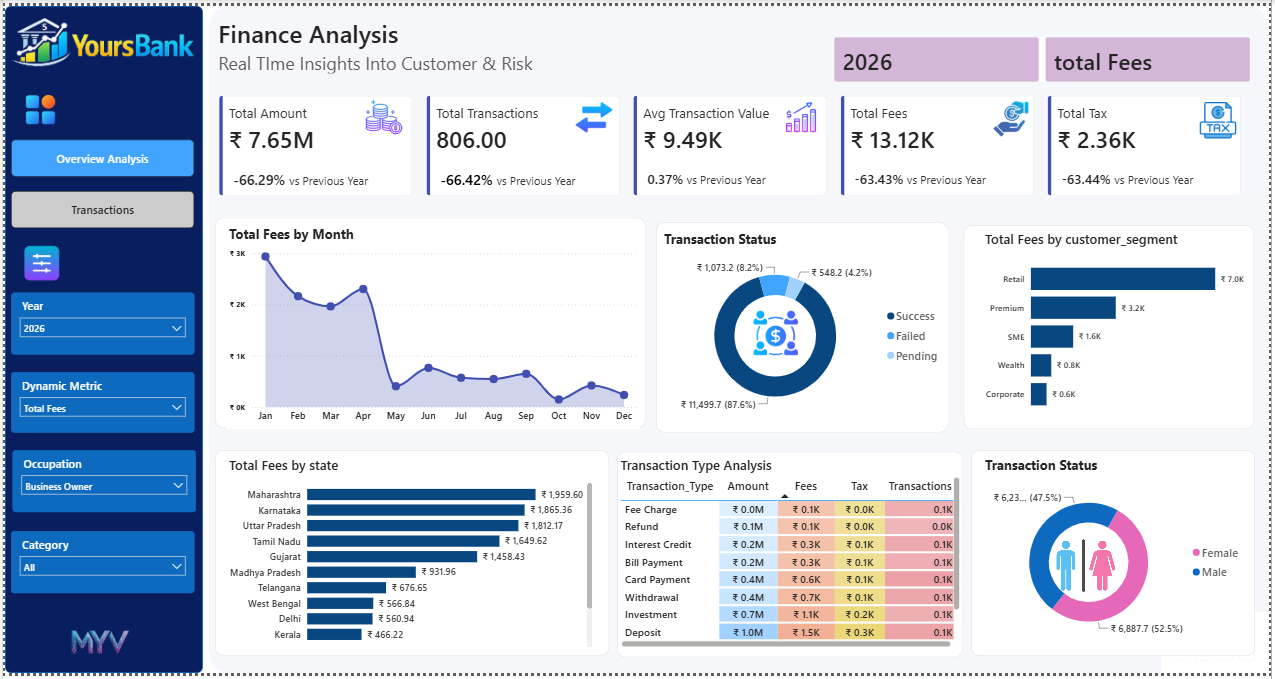

Layout of this report page (visuals, bound fields, positions):
{"tool":"powerbi","page":{"name":"Overview Analysis ","canvas":[1800,950],"ordinal":0},"visuals":[{"type":"shape","box":[0,0,281.8,950],"z":0},{"type":"shape","box":[290.9,0,1509.1,950],"z":1000},{"type":"image","box":[0,0,281.8,113.6],"z":2000},{"type":"cardVisual","fields":{"Data":["finance_transactions.Dashboard Title"]},"box":[279.5,0,634.1,113.6],"z":3000},{"type":"cardVisual","fields":{"Data":["finance_transactions.Total Amount","finance_transactions.Total Transactions","finance_transactions.Avg Transaction Value","finance_transactions.Total Fees","finance_transactions.Total Tax"]},"box":[300,122.7,1470.5,154.5],"z":4000},{"type":"slicer","fields":{"Values":["Calendar Table.Year"]},"box":[9.1,409.1,261.4,88.6],"z":5000},{"type":"cardVisual","fields":{"Data":["finance_transactions.Total Amount","finance_transactions.PY Amount","finance_transactions.YoY","finance_transactions.YoY % Amount"]},"box":[1647.7,863.6,152.3,86.4],"z":6000},{"type":"image","box":[497.7,131.8,84.1,52.3],"z":7000},{"type":"image","box":[797.7,131.8,84.1,52.3],"z":8000},{"type":"image","box":[1090.9,131.8,84.1,52.3],"z":9000},{"type":"image","box":[1390.9,134.1,84.1,52.3],"z":10000},{"type":"image","box":[1686.4,136.4,84.1,52.3],"z":11000},{"type":"slicer","fields":{"Values":["Dynamic Metric.Dynamic Metric"]},"box":[9.1,520.5,261.4,86.4],"z":12000},{"type":"shape","box":[300,302.3,613.6,300],"z":13000},{"type":"areaChart","fields":{"Y":["finance_transactions.Total Fees"],"Category":["Calendar Table.Month"]},"box":[313.6,311.4,590.9,290.9],"z":14000},{"type":"cardVisual","fields":{"Data":["finance_transactions.Selected Year","finance_transactions.Selected Dynamic Measure"]},"box":[1175,38.6,604.5,75],"z":15000},{"type":"shape","box":[927.3,306.8,415.9,300],"z":16000},{"type":"donutChart","title":"Transaction Status","fields":{"Y":["finance_transactions.Total Fees"],"Category":["finance_transactions.transaction_status"]},"box":[934.1,318.2,409.1,277.3],"z":17000},{"type":"shape","box":[1365.9,311.4,413.6,290.9],"z":18000},{"type":"barChart","fields":{"Y":["finance_transactions.Total Fees"],"Category":["customers.customer_segment"]},"box":[1390.9,318.2,379.5,272.7],"z":19000},{"type":"shape","box":[300,631.8,561.4,293.2],"z":20000},{"type":"barChart","fields":{"Y":["finance_transactions.Total Fees"],"Category":["customers.state"]},"box":[313.6,640.9,527.3,277.3],"z":21000},{"type":"shape","box":[872.7,634.1,493.2,293.2],"z":22000},{"type":"tableEx","title":"Transaction Type Analysis","fields":{"Values":["finance_transactions.transaction_type","finance_transactions.Total Amount","finance_transactions.Total Fees","finance_transactions.Total Tax","finance_transactions.Total Transactions"]},"box":[872.7,640.9,493.2,277.3],"z":23000},{"type":"shape","box":[1375,631.8,404.5,293.2],"z":24000},{"type":"donutChart","title":"Transaction Status","fields":{"Y":["finance_transactions.Total Fees"],"Category":["customers.gender"]},"box":[1390.9,640.9,379.5,277.3],"z":25000},{"type":"image","box":[1054.5,429.5,84.1,72.7],"z":26000},{"type":"image","box":[1497.7,759.1,84.1,77.3],"z":27000},{"type":"slicer","fields":{"Values":["customers.occupation"]},"box":[11.4,631.8,261.4,88.6],"z":28000},{"type":"slicer","fields":{"Values":["finance_transactions.merchant_category"]},"box":[9.1,747.7,261.4,88.6],"z":29000},{"type":"pageNavigator","box":[9.1,190.9,261.4,127.3],"z":30000},{"type":"image","box":[9.1,122.7,84.1,52.3],"z":31000},{"type":"image","box":[10.7,339.7,83.3,53.4],"z":32000},{"type":"image","box":[0,863.1,269.2,85.5],"z":32001}]}

Visuals, with their boxes on the page's 1800x950 design canvas (x1, y1, x2, y2). These are canvas units, not pixel positions in the 1275x679 screenshot, which may show the page scaled, cropped or inside an application window:
shape: l=0, t=0, r=282, b=950
shape: l=291, t=0, r=1800, b=950
image: l=0, t=0, r=282, b=114
cardVisual - finance_transactions.Dashboard Title: l=280, t=0, r=914, b=114
cardVisual - finance_transactions.Total Amount x finance_transactions.Total Transactions: l=300, t=123, r=1770, b=277
slicer - Calendar Table.Year: l=9, t=409, r=270, b=498
cardVisual - finance_transactions.Total Amount x finance_transactions.PY Amount: l=1648, t=864, r=1800, b=950
image: l=498, t=132, r=582, b=184
image: l=798, t=132, r=882, b=184
image: l=1091, t=132, r=1175, b=184
image: l=1391, t=134, r=1475, b=186
image: l=1686, t=136, r=1770, b=189
slicer - Dynamic Metric.Dynamic Metric: l=9, t=520, r=270, b=607
shape: l=300, t=302, r=914, b=602
areaChart - finance_transactions.Total Fees x Calendar Table.Month: l=314, t=311, r=904, b=602
cardVisual - finance_transactions.Selected Year x finance_transactions.Selected Dynamic Measure: l=1175, t=39, r=1780, b=114
shape: l=927, t=307, r=1343, b=607
"Transaction Status" donutChart: l=934, t=318, r=1343, b=596
shape: l=1366, t=311, r=1780, b=602
barChart - finance_transactions.Total Fees x customers.customer_segment: l=1391, t=318, r=1770, b=591
shape: l=300, t=632, r=861, b=925
barChart - finance_transactions.Total Fees x customers.state: l=314, t=641, r=841, b=918
shape: l=873, t=634, r=1366, b=927
"Transaction Type Analysis" tableEx: l=873, t=641, r=1366, b=918
shape: l=1375, t=632, r=1780, b=925
"Transaction Status" donutChart: l=1391, t=641, r=1770, b=918
image: l=1054, t=430, r=1139, b=502
image: l=1498, t=759, r=1582, b=836
slicer - customers.occupation: l=11, t=632, r=273, b=720
slicer - finance_transactions.merchant_category: l=9, t=748, r=270, b=836
pageNavigator: l=9, t=191, r=270, b=318
image: l=9, t=123, r=93, b=175
image: l=11, t=340, r=94, b=393
image: l=0, t=863, r=269, b=949
